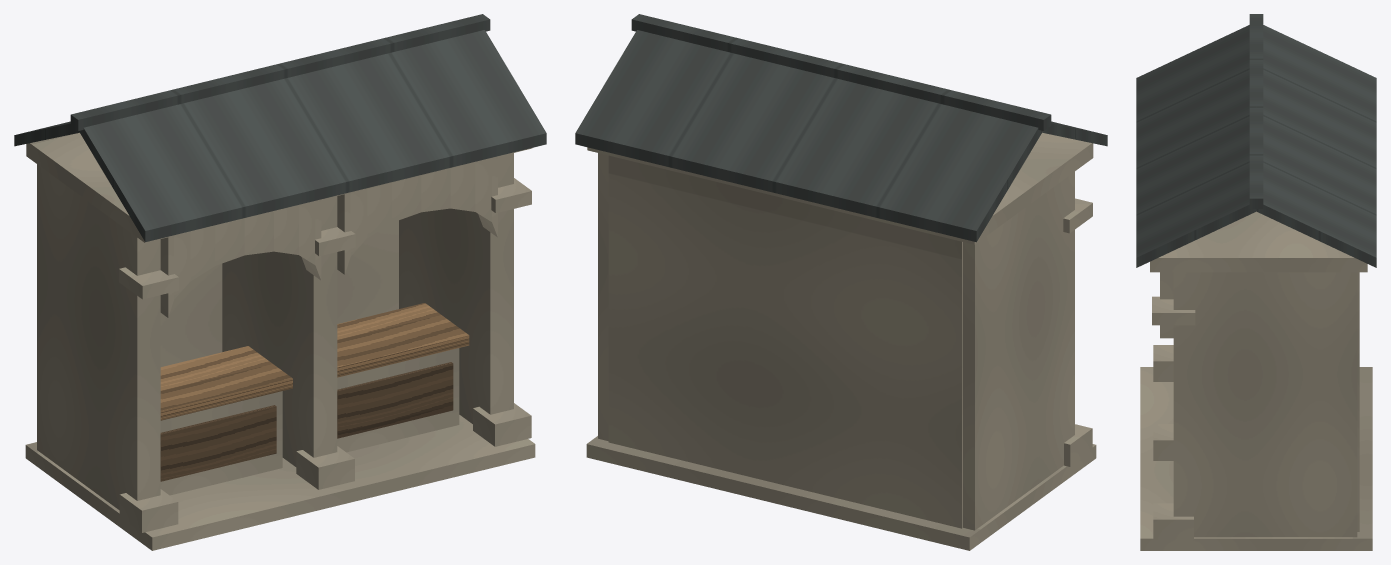
The picture shows the model from 3 angles, left to right: view 1: azimuth 30°, elevation 25°; view 2: azimuth 150°, elevation 25°; view 3: azimuth 270°, elevation 25°; orthographic projection. The views are drawn at different scales.
Parts seen in each view (by area): view 1: majuro; view 2: majuro; view 3: majuro.
Boxes of the visible parts, x1=… form: majuro: x1=14, y1=14, x2=546, y2=550; majuro: x1=575, y1=14, x2=1107, y2=550; majuro: x1=1136, y1=14, x2=1376, y2=550.
Size of the model in its own units: 2.76 by 2.5 by 1.52.
1 material, 1 textured.
